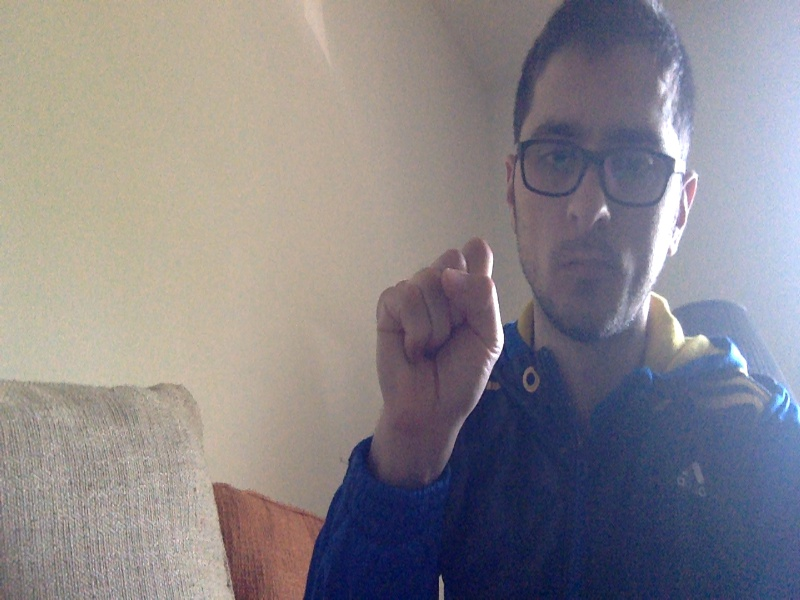0-hand: (377, 241, 503, 429)
